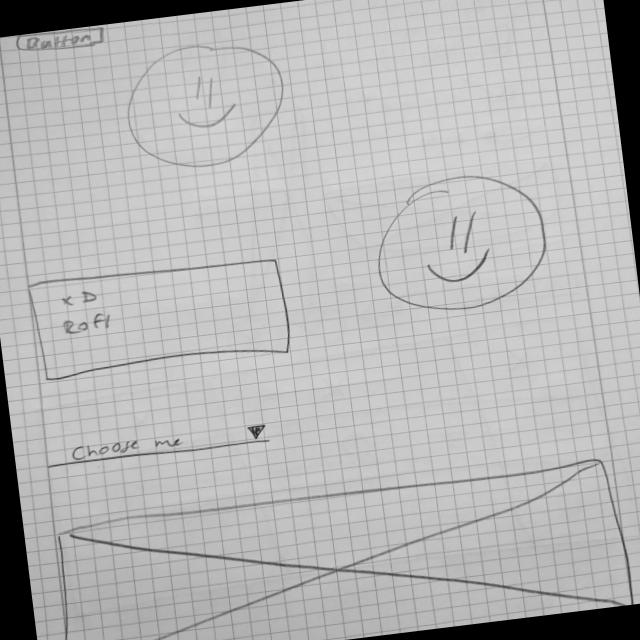button: (12, 25, 109, 57)
container: (24, 249, 299, 386)
icon-button: (363, 166, 559, 323), (118, 32, 298, 179)
image: (40, 453, 640, 640)
label: (57, 308, 119, 342), (52, 283, 110, 311)
select: (42, 418, 276, 474)
